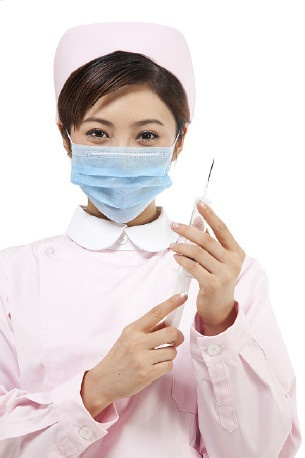Mask: (67, 106, 185, 224)
